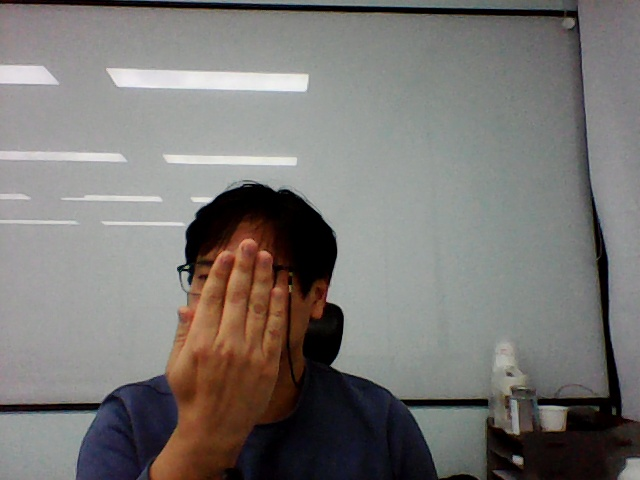five: (150, 235, 292, 441)
